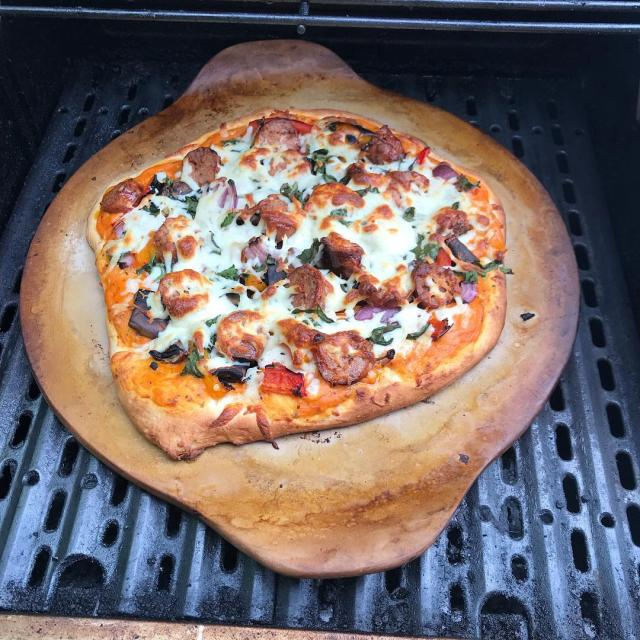pizza: (88, 107, 511, 459)
